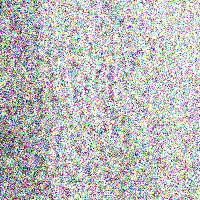pitted_surface: (3, 0, 200, 200)
